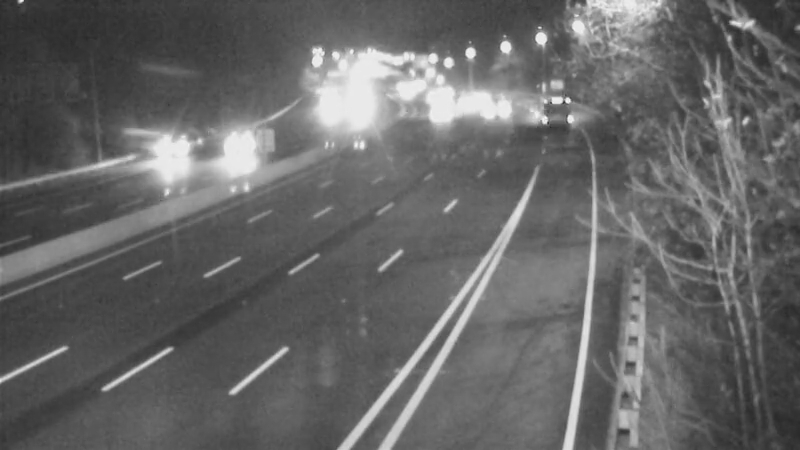vehicle: (204, 111, 284, 191), (444, 79, 494, 129), (525, 82, 575, 132), (471, 81, 521, 131), (413, 88, 463, 138), (142, 125, 192, 175)
